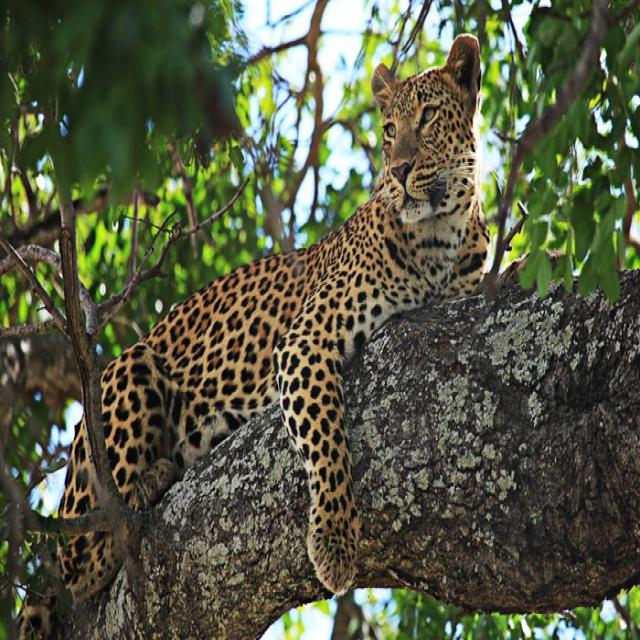Jaguar: (90, 60, 487, 554)
